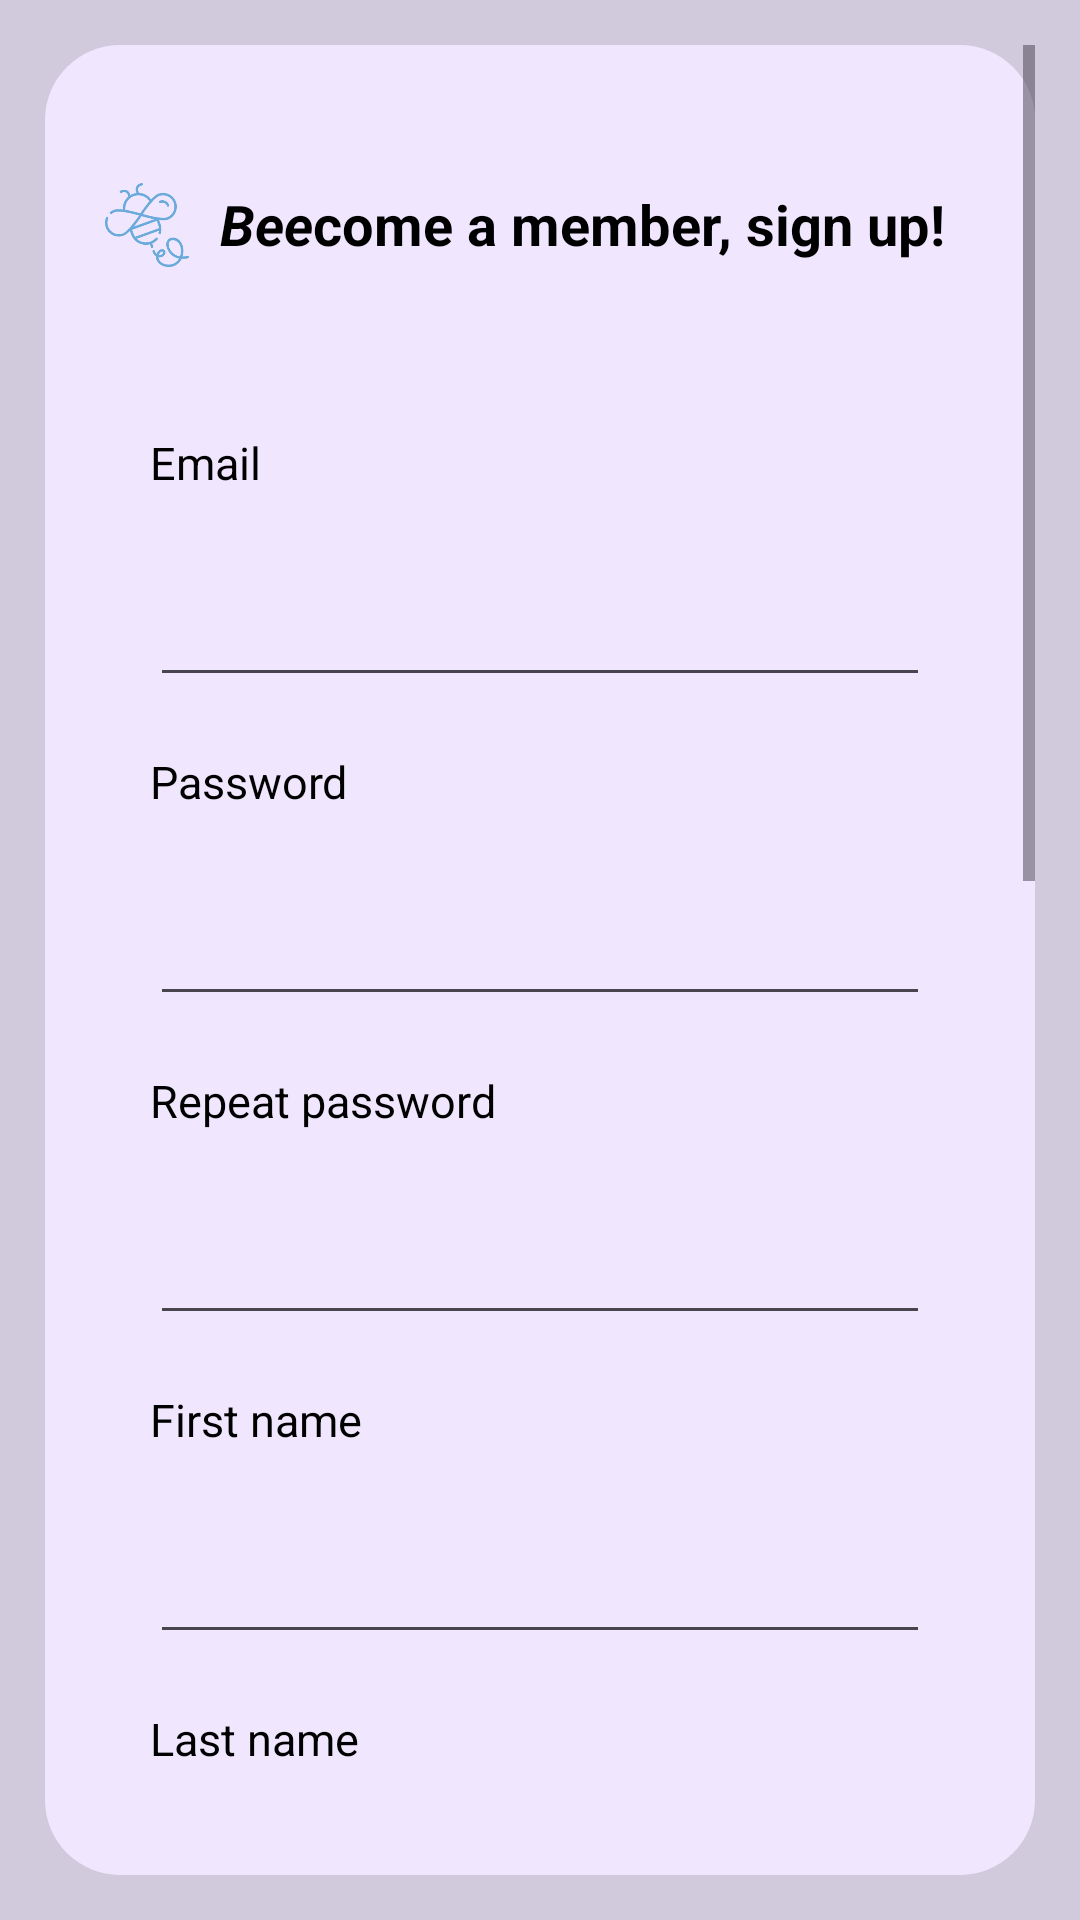

Icons on this 1080 × 1920 Android screen, each with its box as (x1, y1, x2, y2):
bee: (105, 183, 189, 267)
